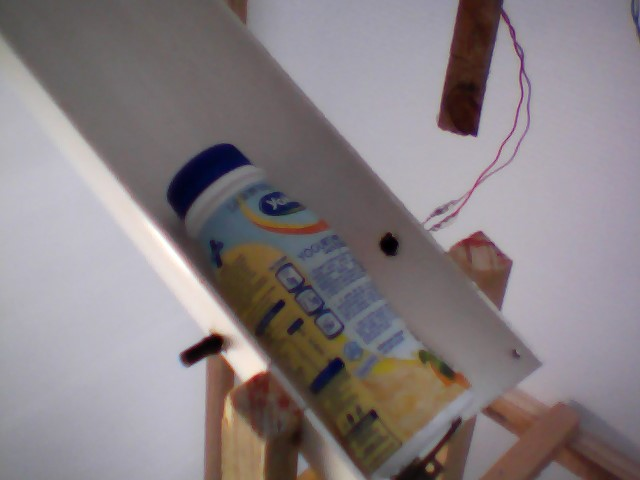plastico: (161, 139, 492, 475)
